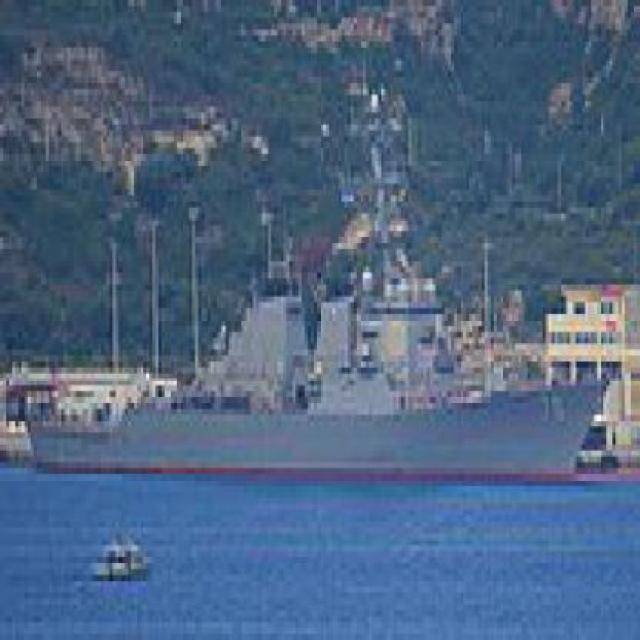warship2: (34, 232, 608, 493)
